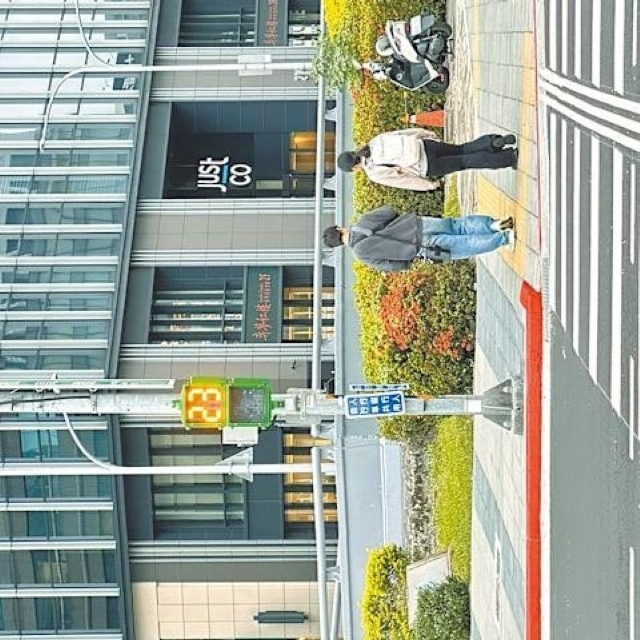green_light: (181, 378, 271, 430)
